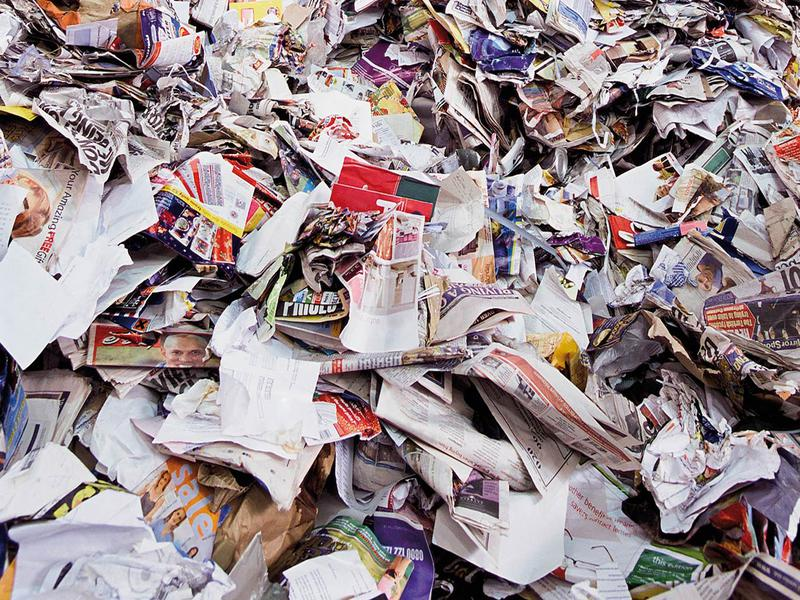paper: (402, 1, 800, 153), (1, 2, 398, 152), (151, 343, 337, 512), (454, 335, 640, 495), (2, 162, 141, 376), (270, 190, 439, 352), (4, 486, 243, 600), (641, 369, 787, 536), (366, 374, 547, 507), (134, 141, 273, 274), (27, 80, 144, 180), (696, 259, 800, 370), (591, 138, 707, 227)
